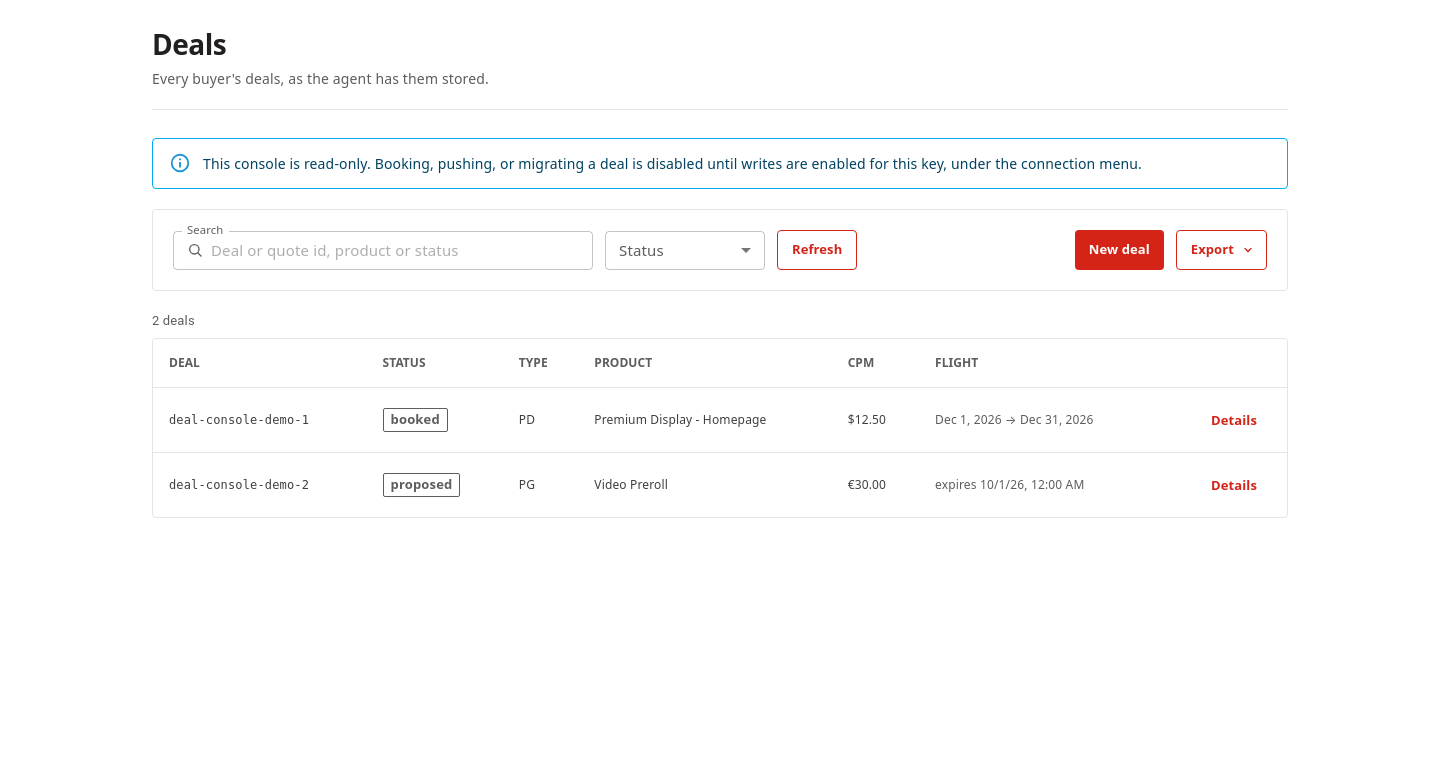
it: the deals screen › marks the delivery figures as not measured
Expected: the text "deal-console-demo-1" is shown, [153, 388, 367, 453]
Click the button "Details" in the row of "deal-console-demo-1" at coordinates (1234, 420), box [1197, 400, 1271, 440]
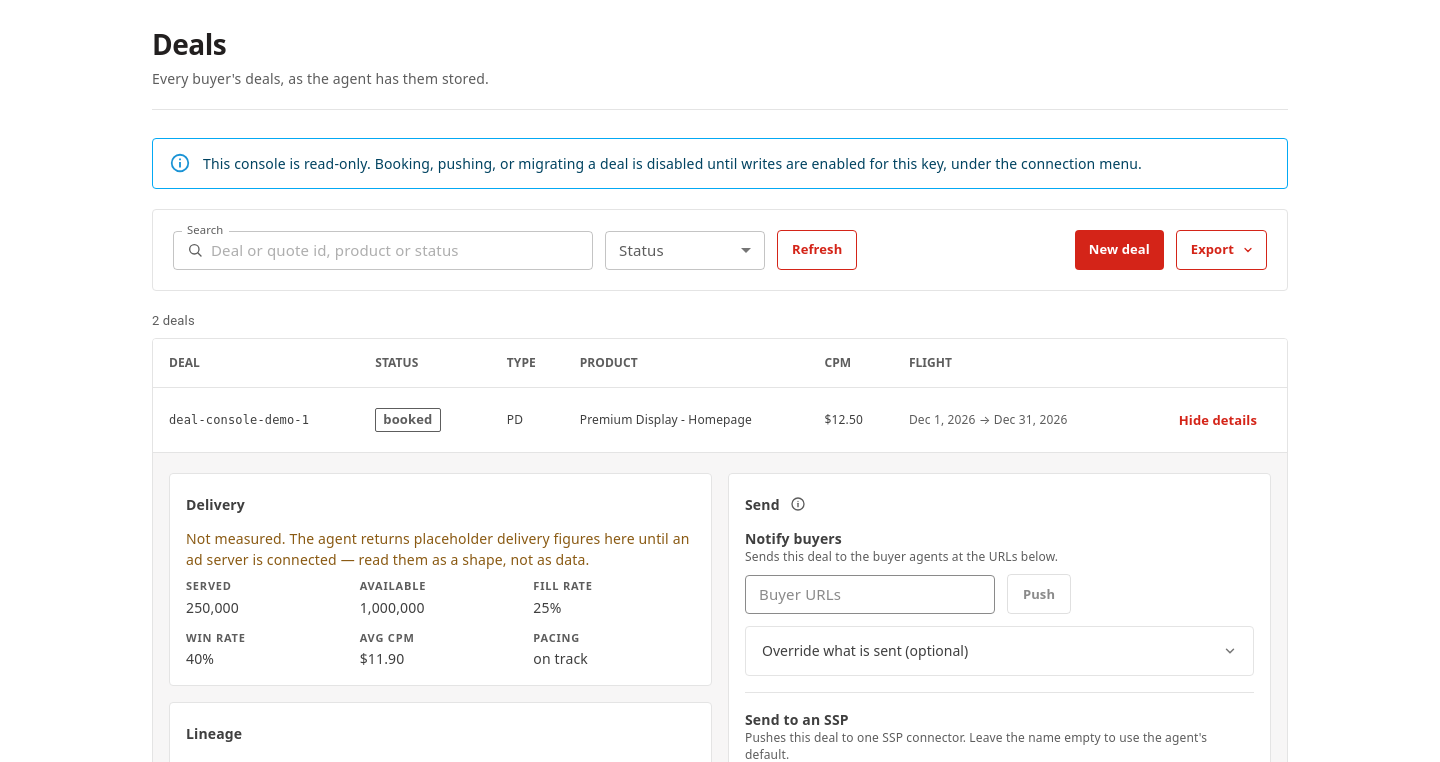
Now the element that starts with "Served" is shown, box [186, 578, 593, 668]
Now the text "Not measured" is shown, box [186, 529, 690, 569]
Now the text "placeholder" is shown, box [186, 529, 690, 569]
